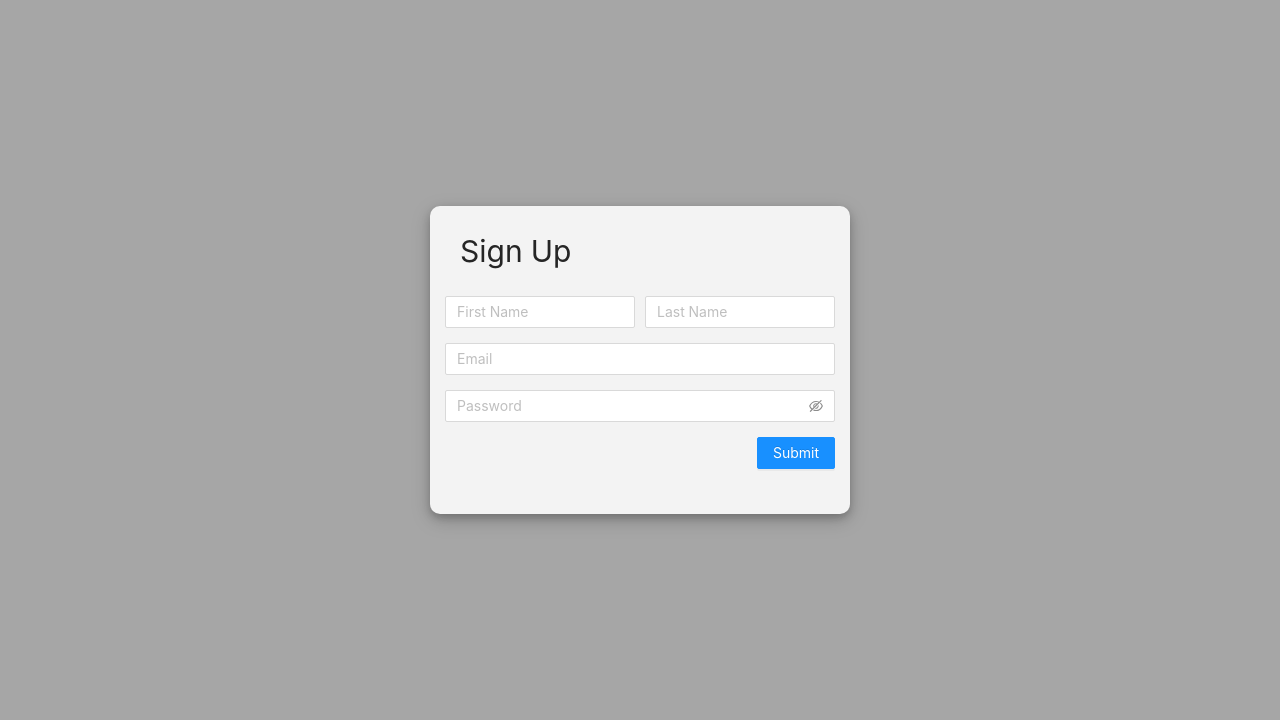
Test: Sign up form › form successfully submitted
Type "John" into the field with placeholder "First Name".
click(540, 312); type("John")  # box top-left (445, 296), bottom-right (635, 328)
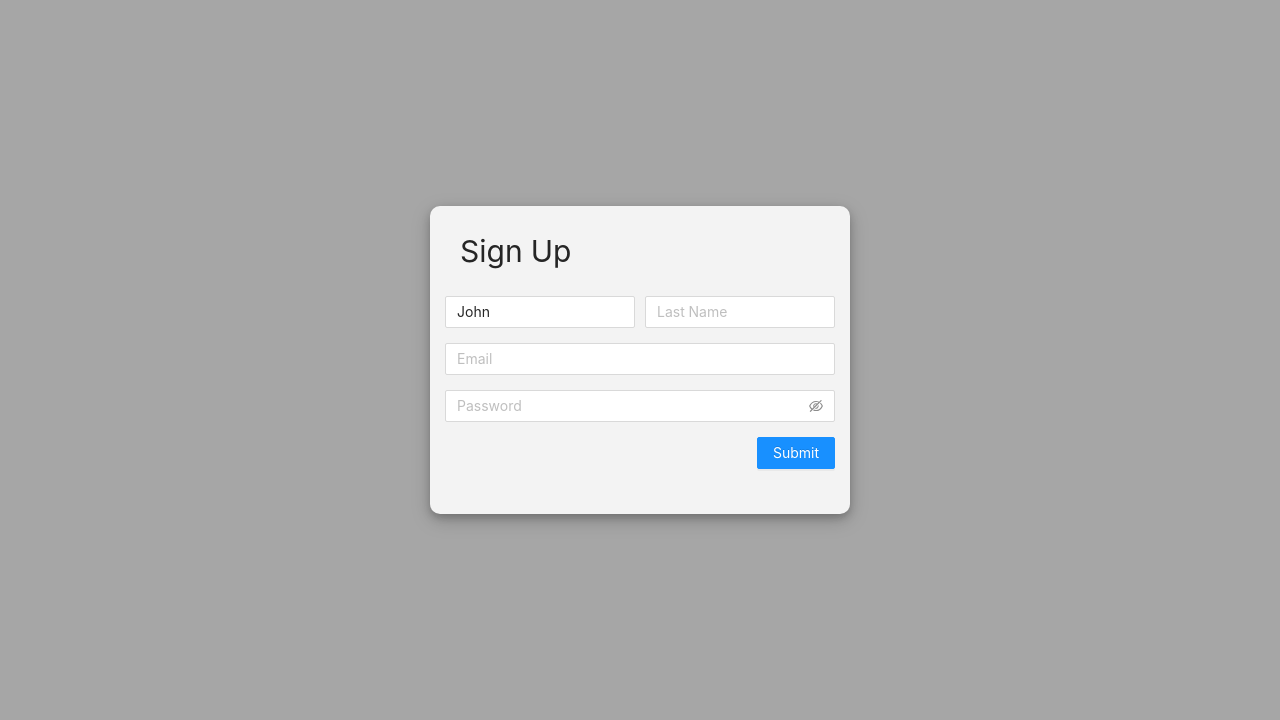
Type "Smith" into the field with placeholder "Last Name".
click(740, 312); type("Smith")  # box top-left (645, 296), bottom-right (835, 328)
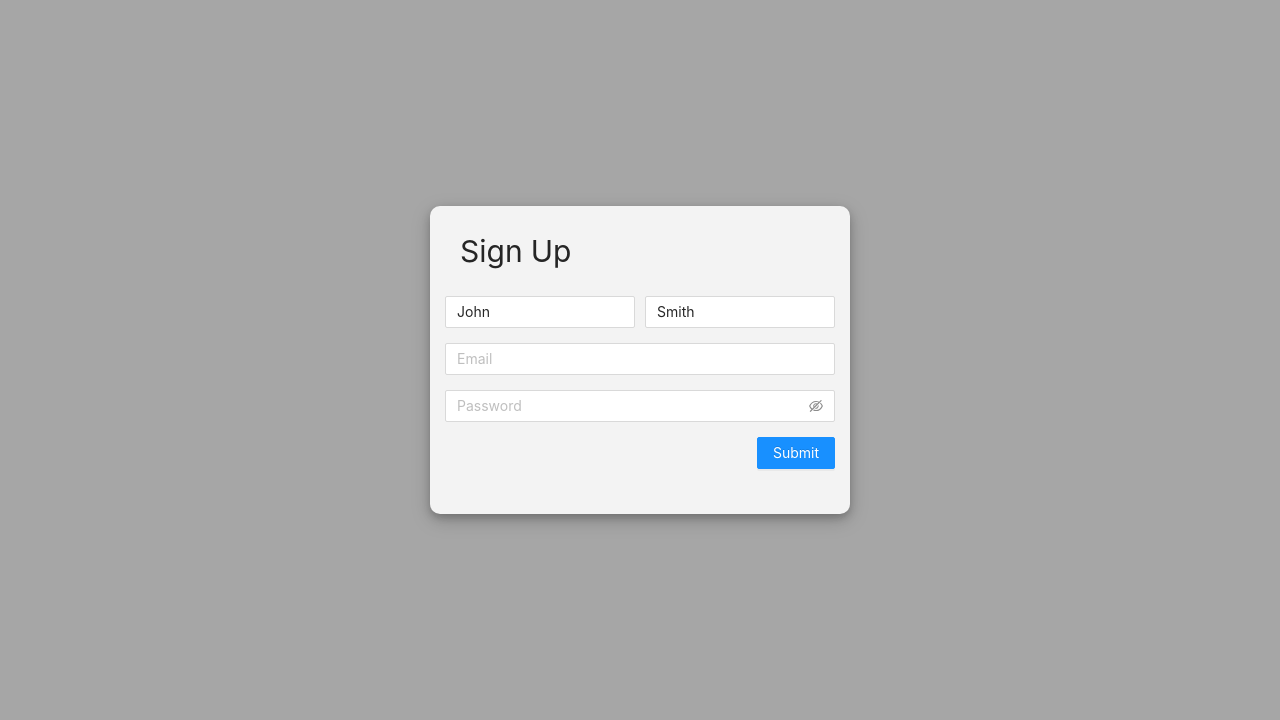
Type "johnsmith@gmail.com" into the field with placeholder "Email".
click(640, 359); type("johnsmith@gmail.com")  # box top-left (445, 343), bottom-right (835, 375)
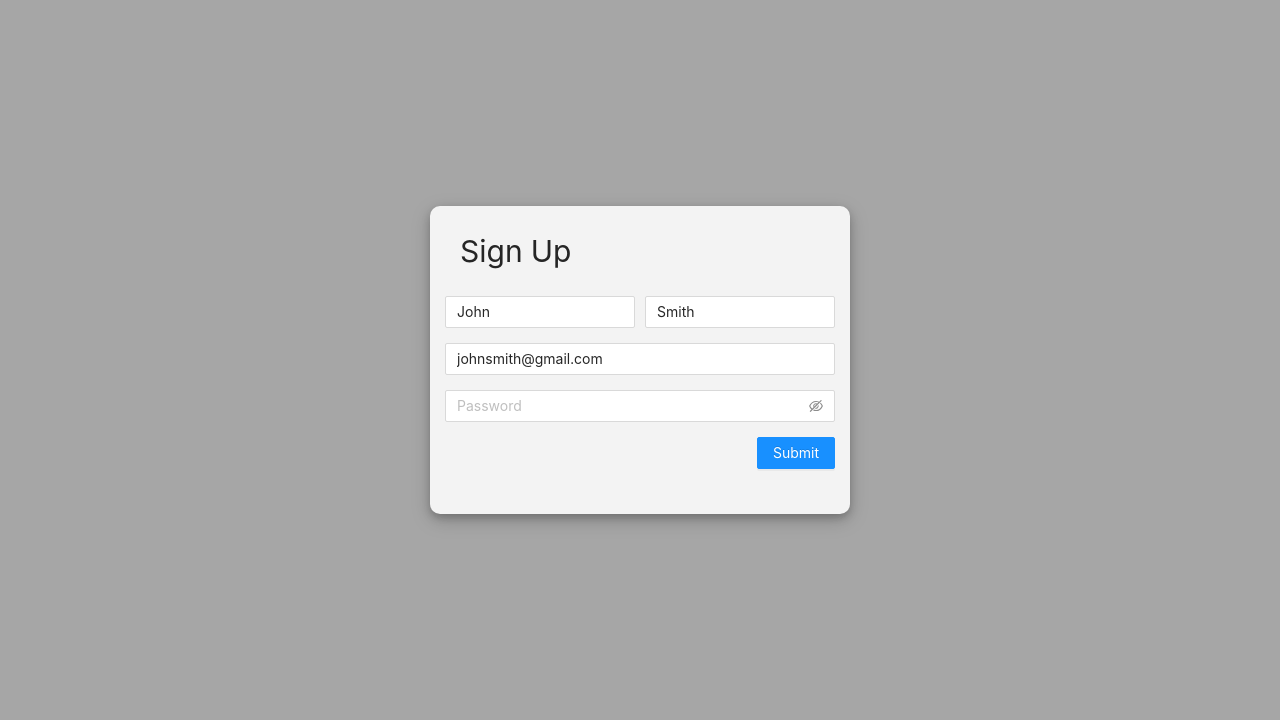
Type "123456" into the password field with placeholder "Password".
click(631, 406); type("123456")  # box top-left (457, 395), bottom-right (805, 417)
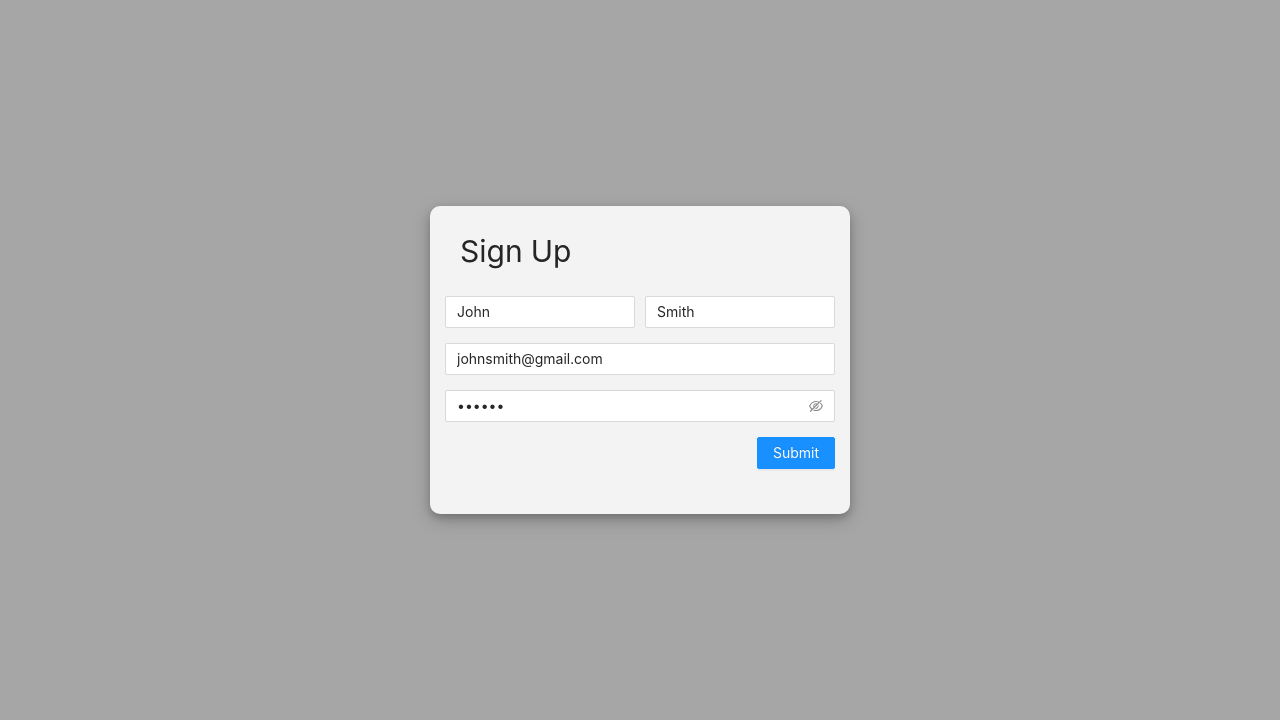
Click the button "Submit".
click(796, 453)  # box top-left (757, 437), bottom-right (835, 469)
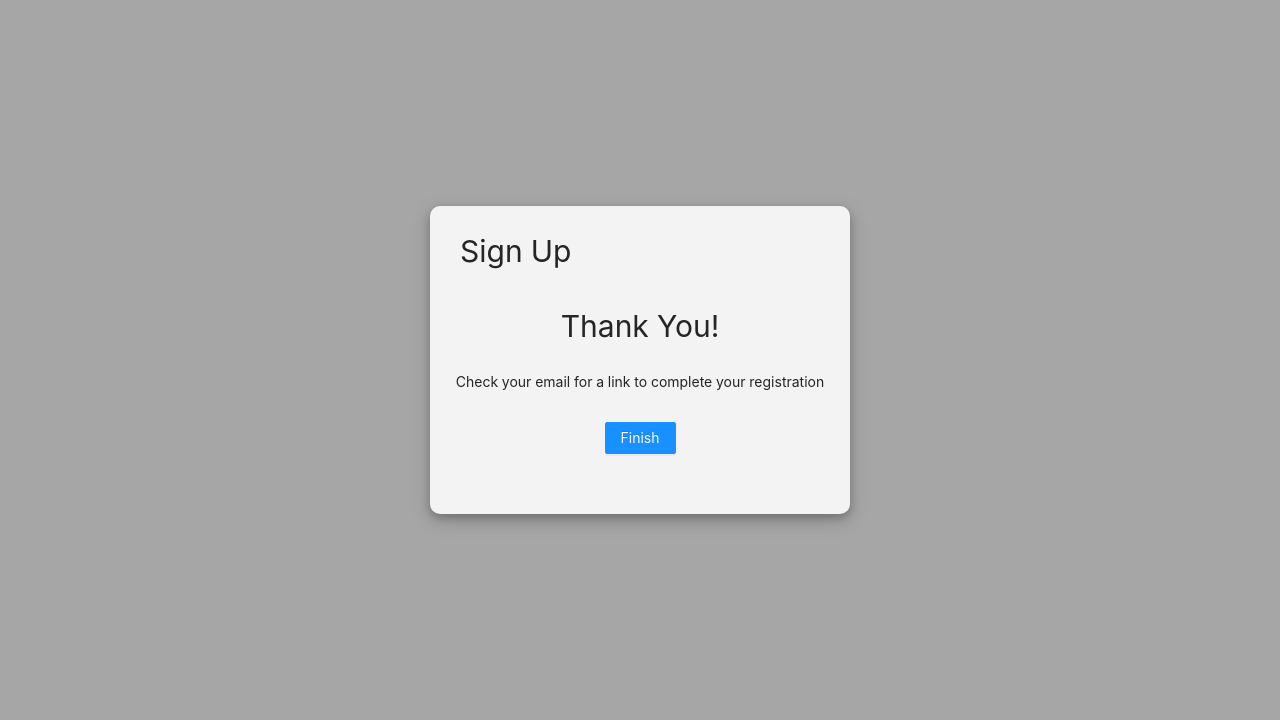
Expected: the text "Thank You!" is shown, top-left (561, 311), bottom-right (719, 341)
